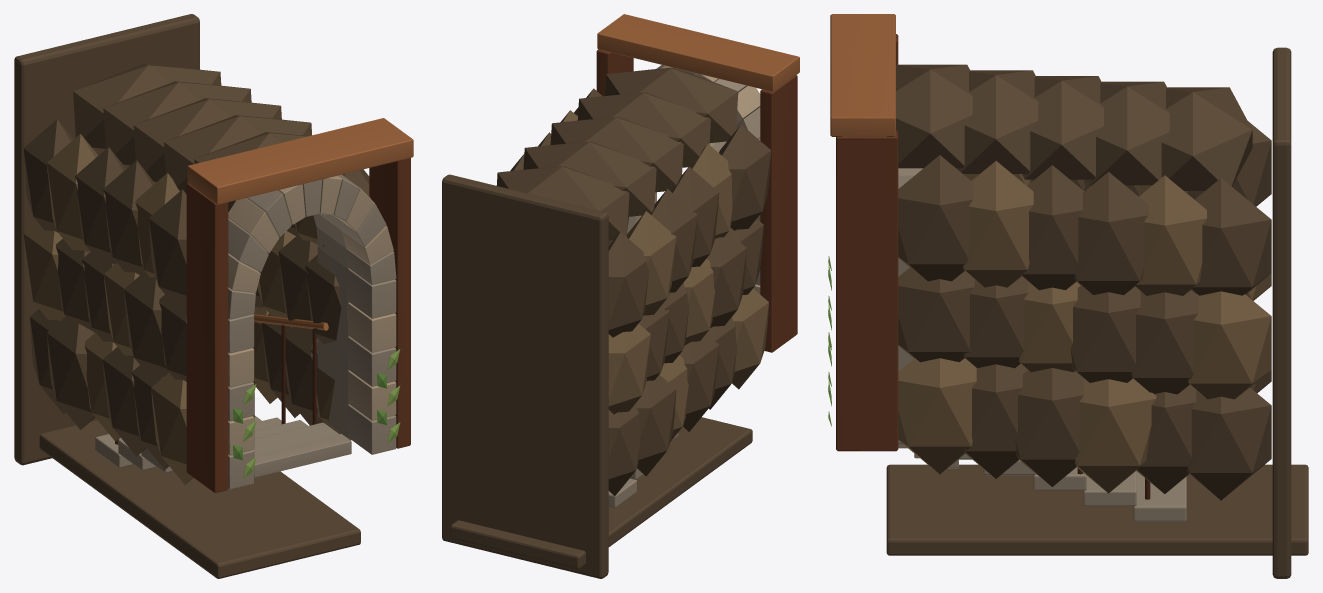
The model's file is cave_entrance.fbx.
3 views of the same model, side by side, from view 1: azimuth 30°, elevation 25°; view 2: azimuth 150°, elevation 25°; view 3: azimuth 270°, elevation 25° (orthographic). The views are drawn at different scales.
Parts seen in each view (by area): view 1: cave_entrance; view 2: cave_entrance; view 3: cave_entrance.
Boxes of the visible parts, left/top/right/bottom form: cave_entrance: left=14, top=14, right=413, bottom=578; cave_entrance: left=442, top=14, right=799, bottom=578; cave_entrance: left=828, top=14, right=1308, bottom=578.
Bounding box in the file's own units: 1.7 × 3.3 × 3.07.
